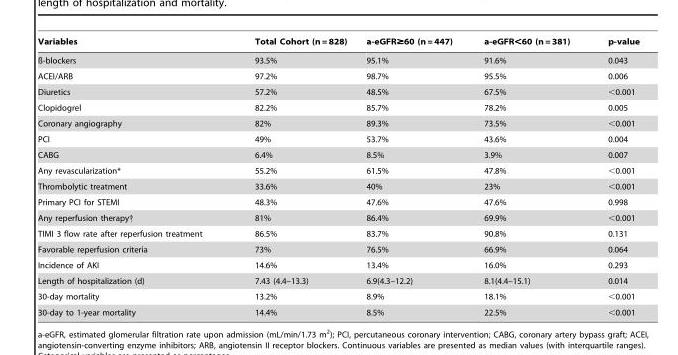table: (37, 36, 638, 316)
table column: (37, 36, 227, 316), (227, 36, 355, 316), (467, 36, 588, 316), (355, 36, 467, 316), (588, 36, 638, 316)
table column header: (37, 36, 638, 50)
table row: (37, 50, 638, 68), (37, 83, 638, 99), (37, 99, 638, 115), (37, 115, 638, 131), (37, 146, 638, 162), (37, 162, 638, 178), (37, 178, 638, 194), (37, 209, 638, 225), (37, 225, 638, 241), (37, 241, 638, 257), (37, 272, 638, 288), (37, 288, 638, 304), (37, 68, 638, 83), (37, 131, 638, 146), (37, 194, 638, 209), (37, 257, 638, 272), (37, 36, 638, 50), (37, 304, 638, 316)
